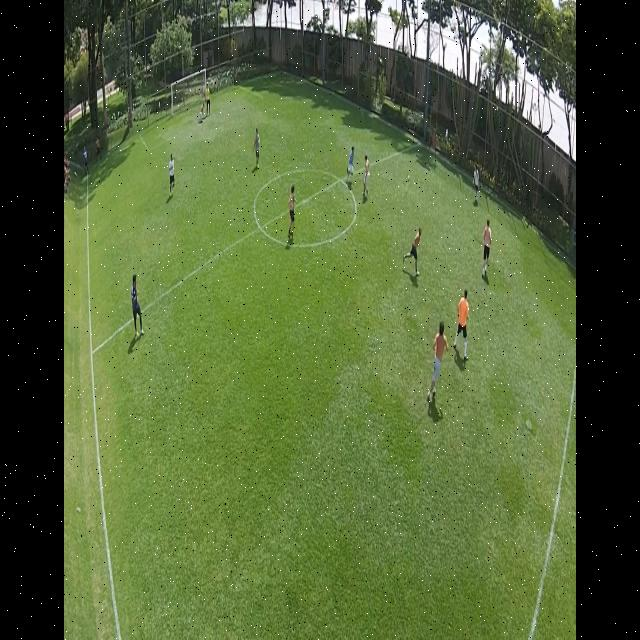humans: (426, 316, 446, 407), (451, 289, 472, 362), (400, 224, 422, 280), (129, 271, 142, 343), (480, 215, 492, 282), (284, 182, 296, 248), (360, 148, 371, 204), (166, 148, 177, 200), (344, 143, 355, 185), (471, 159, 481, 203), (252, 125, 261, 171), (205, 77, 211, 121)
